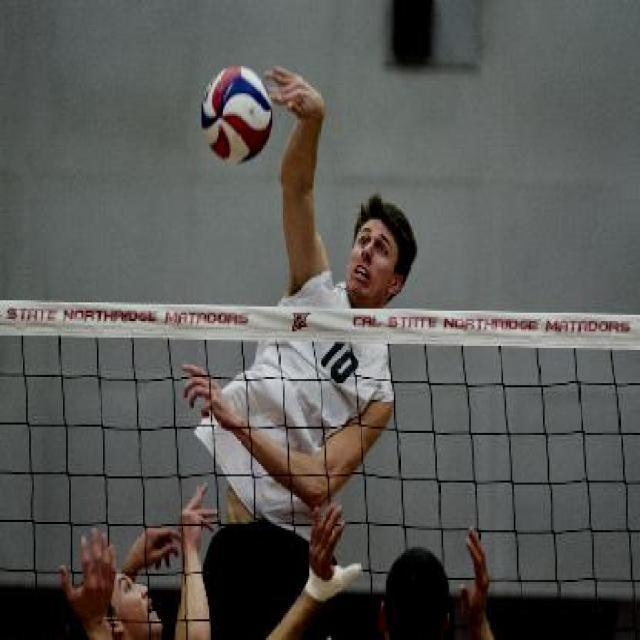volleyball: (200, 64, 274, 164)
